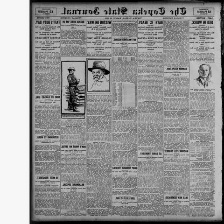news_paper: (30, 0, 224, 224)
